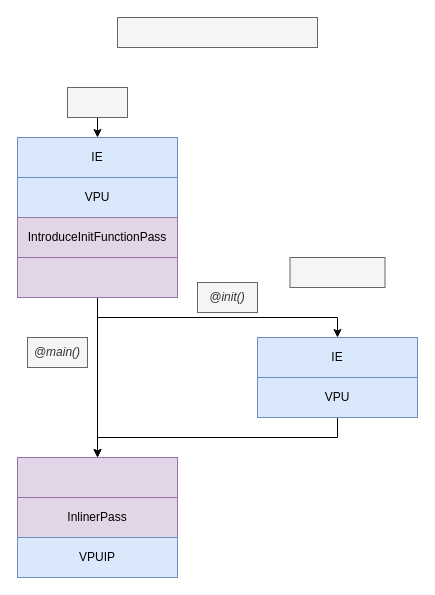
Image size: 435x595. Some labels were removed from this diagram. Each missing label, with the box of its shape:
Model: (66, 86, 128, 118)
PackNestedModulesPass: (16, 256, 178, 298)
UnpackNestedModulesPass: (16, 456, 178, 498)
WSInit Pipeline: (289, 256, 385, 288)
WSMonolithic Pipeline: (116, 16, 318, 48)
